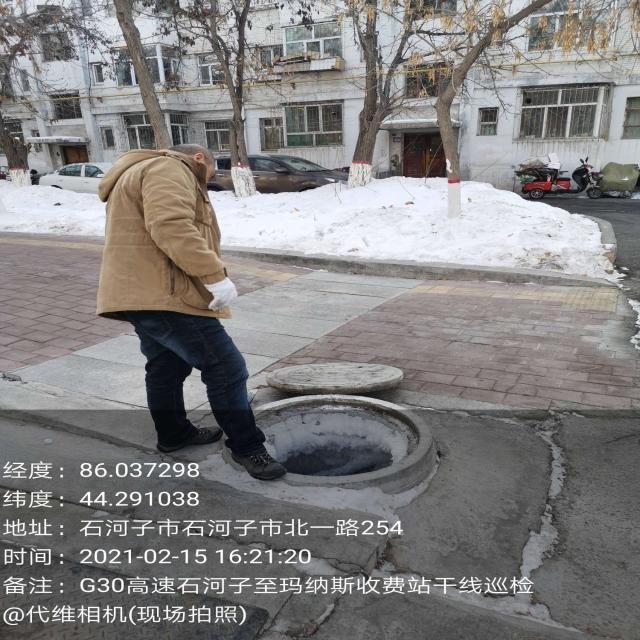manhole: (255, 395, 436, 494)
